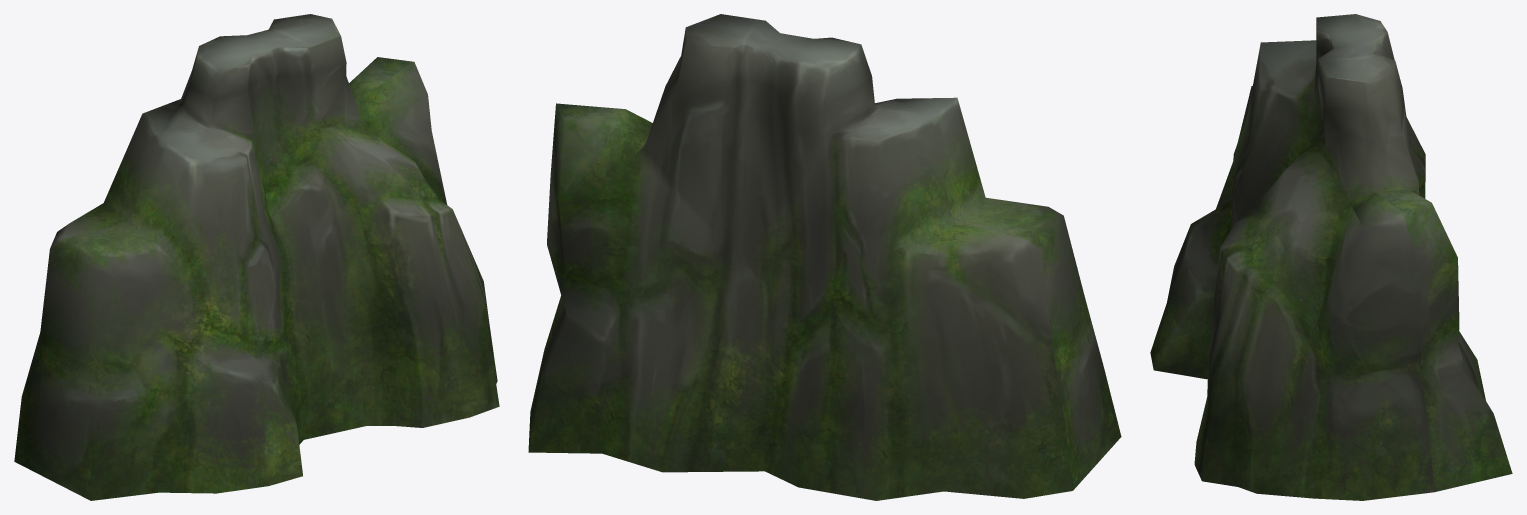
File: Stage_CaoYuan_ShanShi05.FBX
3 renders of one model, left to right at view 1: azimuth 30°, elevation 25°; view 2: azimuth 150°, elevation 25°; view 3: azimuth 270°, elevation 25°, orthographic. The views are drawn at different scales.
Visible parts, largest first — view 1: Stage_CaoYuan_ShanShi05; view 2: Stage_CaoYuan_ShanShi05; view 3: Stage_CaoYuan_ShanShi05.
Boxes of the visible parts, <box> form: Stage_CaoYuan_ShanShi05: <box>14,14,499,500</box>; Stage_CaoYuan_ShanShi05: <box>528,14,1121,500</box>; Stage_CaoYuan_ShanShi05: <box>1150,14,1512,500</box>.
Bounding box in the file's own units: 1356 × 987 × 910.
